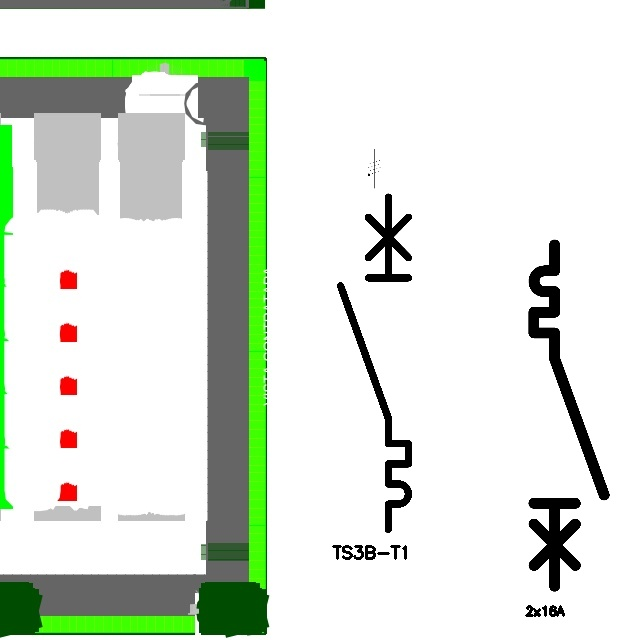interruptor_termomagnetico: (525, 236, 613, 595), (332, 188, 417, 537)
